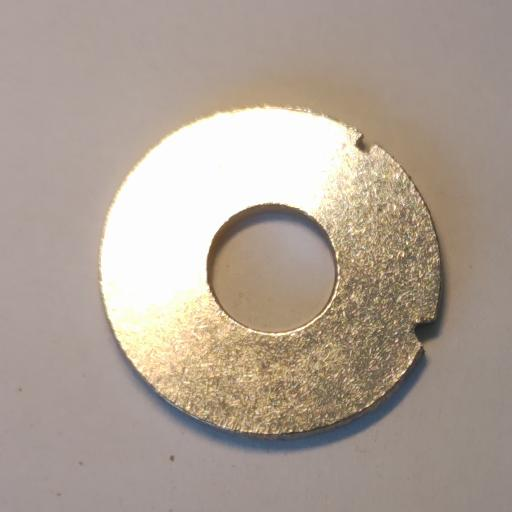burr: (411, 317, 438, 349), (354, 131, 377, 155)
